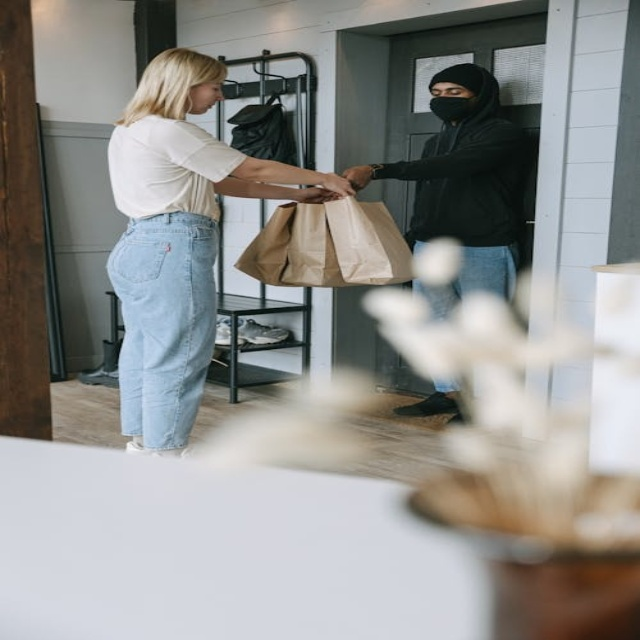Mascara: (429, 96, 477, 122)
Sin_gafas: (197, 79, 227, 92), (430, 88, 471, 97)
Sin_guantes: (340, 163, 378, 190), (291, 185, 339, 205)
Sin_mascara: (191, 96, 225, 113)
